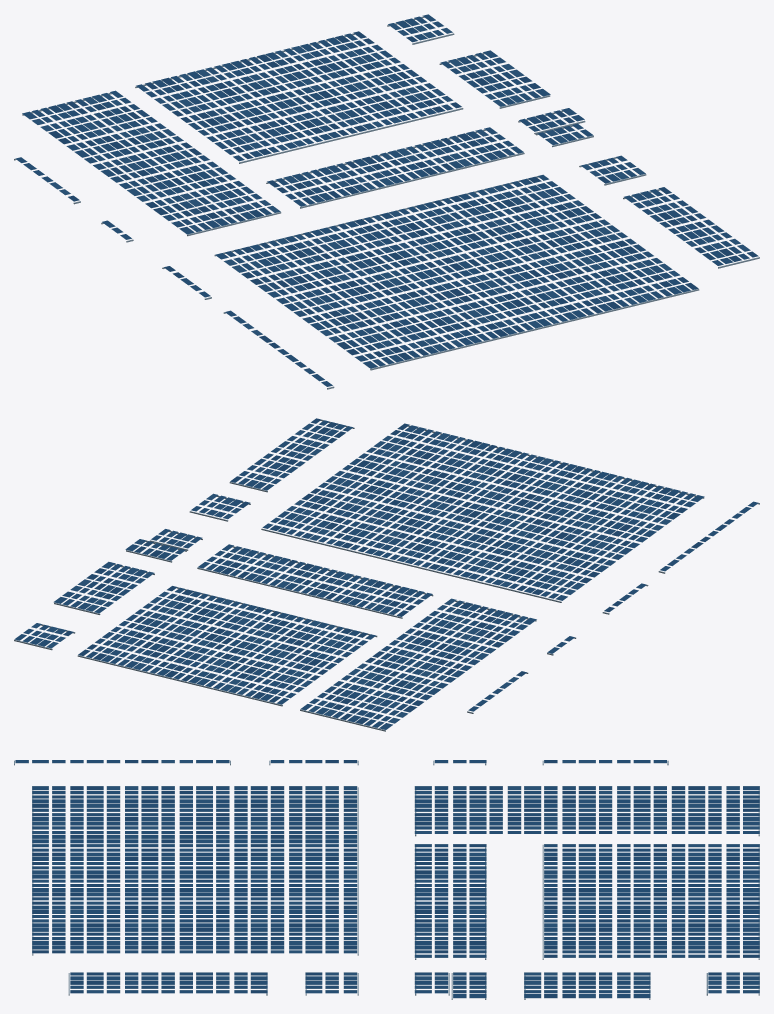
Rendered from SM_MPRH_SolarBank_01_0_LOD2.fbx.
The picture shows the model from 3 angles, top to bottom: view 1: azimuth 30°, elevation 25°; view 2: azimuth 150°, elevation 25°; view 3: azimuth 270°, elevation 25°; orthographic projection. The views are drawn at different scales.
Parts seen in each view (by area): view 1: SM_MPRH_SolarBank_01_0_LOD2; view 2: SM_MPRH_SolarBank_01_0_LOD2; view 3: SM_MPRH_SolarBank_01_0_LOD2.
Boxes of the visible parts, <box> form: SM_MPRH_SolarBank_01_0_LOD2: <box>14,14,759,389</box>; SM_MPRH_SolarBank_01_0_LOD2: <box>14,418,759,731</box>; SM_MPRH_SolarBank_01_0_LOD2: <box>14,760,759,999</box>.
Bounding box in the file's own units: 6032 × 7980 × 24.6.
